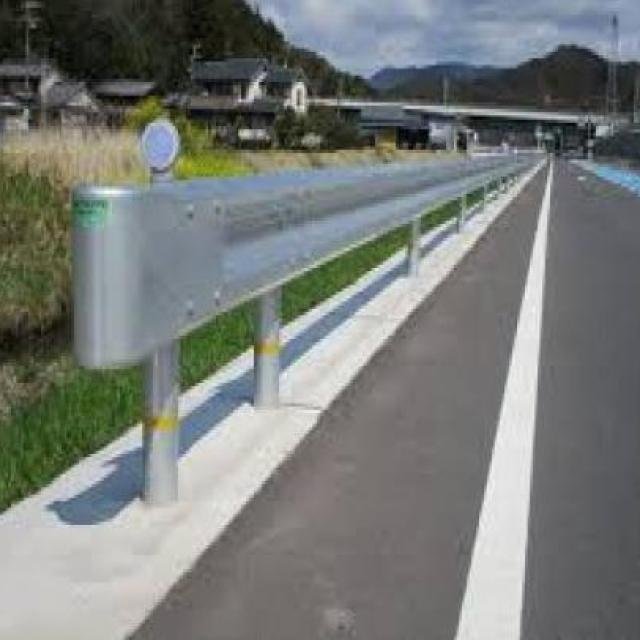Guard rail: (70, 111, 551, 529)
